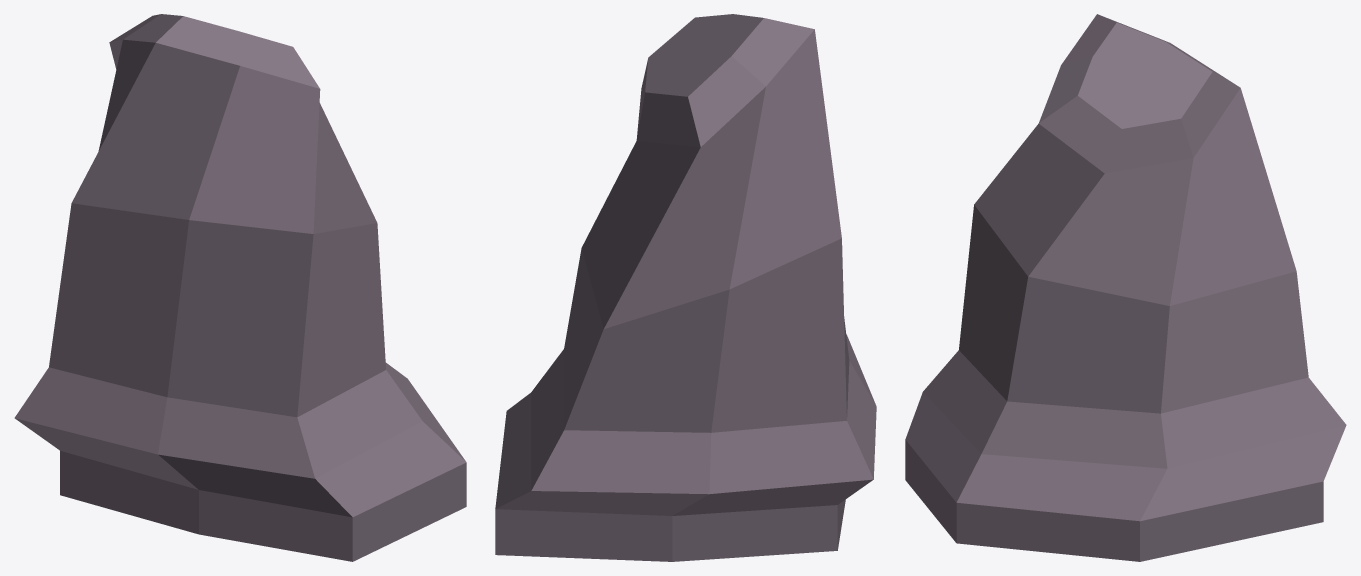
The model's file is Rock_v09.fbx.
The picture shows the model from 3 angles, left to right: view 1: azimuth 30°, elevation 25°; view 2: azimuth 150°, elevation 25°; view 3: azimuth 270°, elevation 25°; orthographic projection. The views are drawn at different scales.
Parts seen in each view (by area): view 1: Rock_v09; view 2: Rock_v09; view 3: Rock_v09.
Boxes of the visible parts, x1=… form: Rock_v09: x1=14, y1=14, x2=466, y2=561; Rock_v09: x1=495, y1=14, x2=876, y2=561; Rock_v09: x1=905, y1=14, x2=1346, y2=561.
Size of the model in its own units: 27.15 by 32.83 by 30.27.
1 material, 1 textured.
